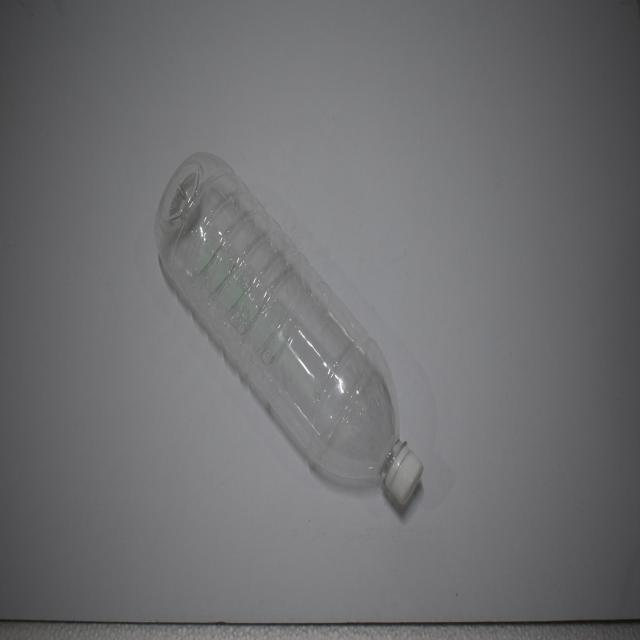bottle: (150, 139, 434, 529)
